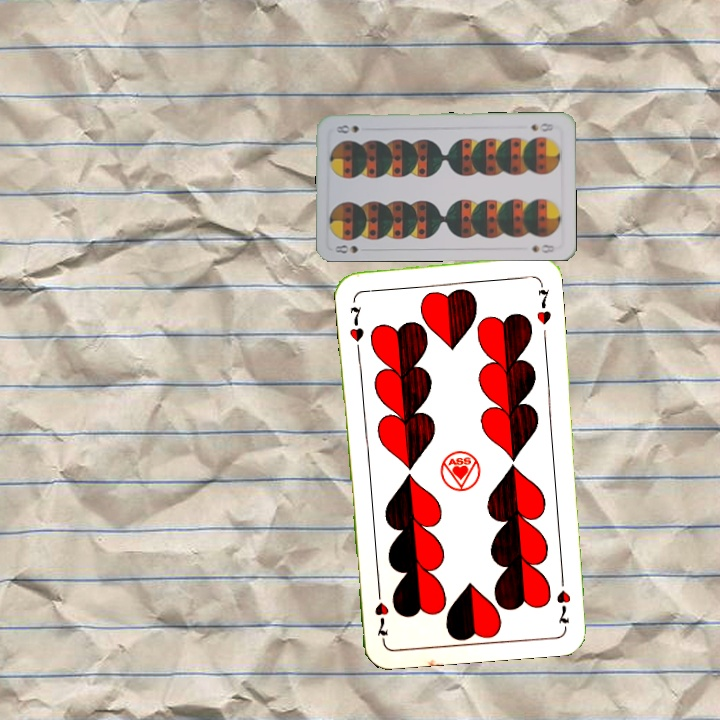H7: (552, 570, 573, 629), (345, 302, 366, 344)
S8: (331, 241, 371, 256), (527, 119, 556, 134)
